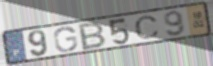5: (107, 16, 132, 46)
9: (28, 28, 51, 58), (163, 9, 187, 37)
B: (78, 21, 108, 52)
C: (133, 15, 161, 40)
G: (52, 26, 79, 53)
